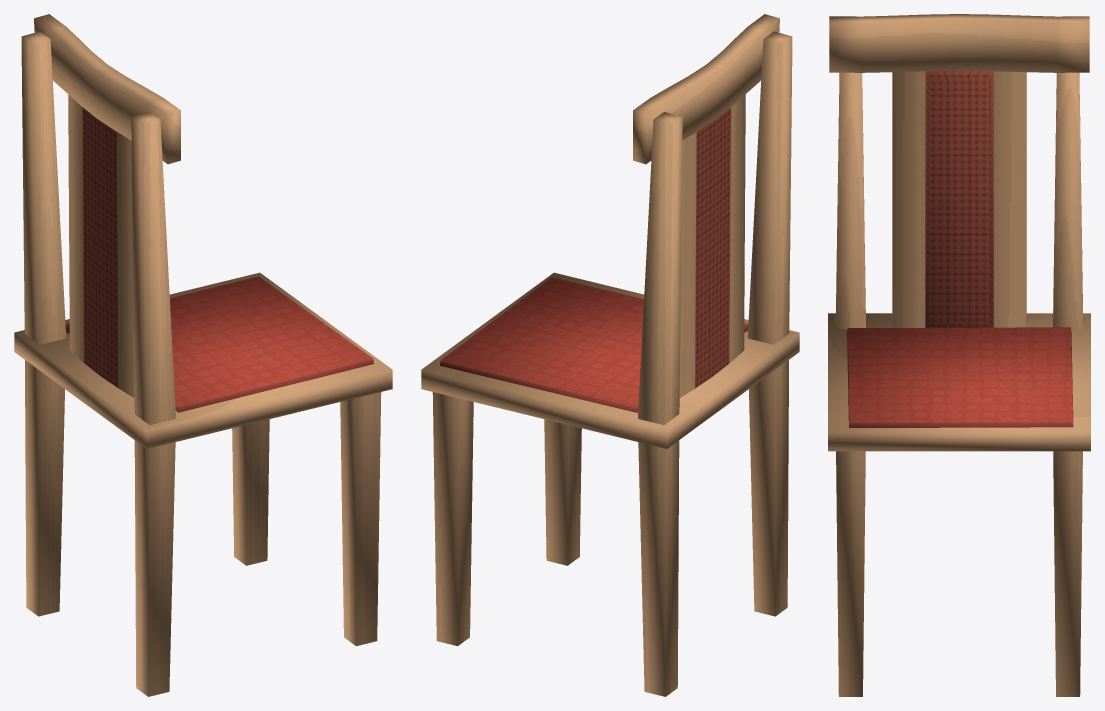
The model's file is стульчак.fbx.
The picture shows the model from 3 angles, left to right: view 1: azimuth 30°, elevation 25°; view 2: azimuth 150°, elevation 25°; view 3: azimuth 270°, elevation 25°; orthographic projection.
Visible parts, largest first — view 1: Chair; view 2: Chair; view 3: Chair.
Part boxes in pixels (<box>): Chair: <box>14,14,392,696</box>; Chair: <box>421,14,799,696</box>; Chair: <box>828,14,1090,696</box>.
Size of the model in its own units: 3.36 by 7.62 by 3.14.
1 material, 1 textured.
